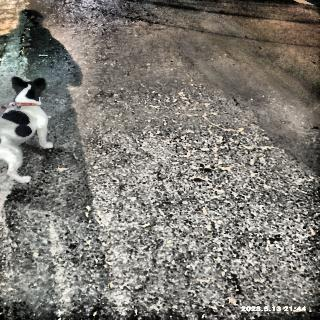alligator-crack: (121, 80, 312, 223)
